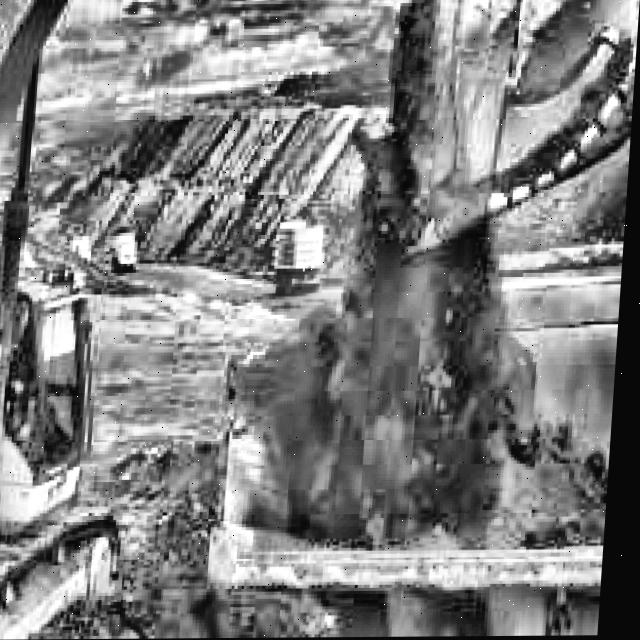dump_truck: (203, 242, 627, 639), (271, 214, 327, 291), (114, 227, 140, 270)
excavator: (0, 0, 640, 640)
